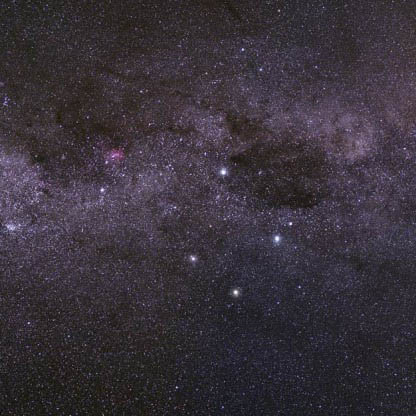Southern Cross: (223, 281, 253, 311), (263, 224, 291, 250), (181, 245, 204, 271), (214, 158, 237, 182)
